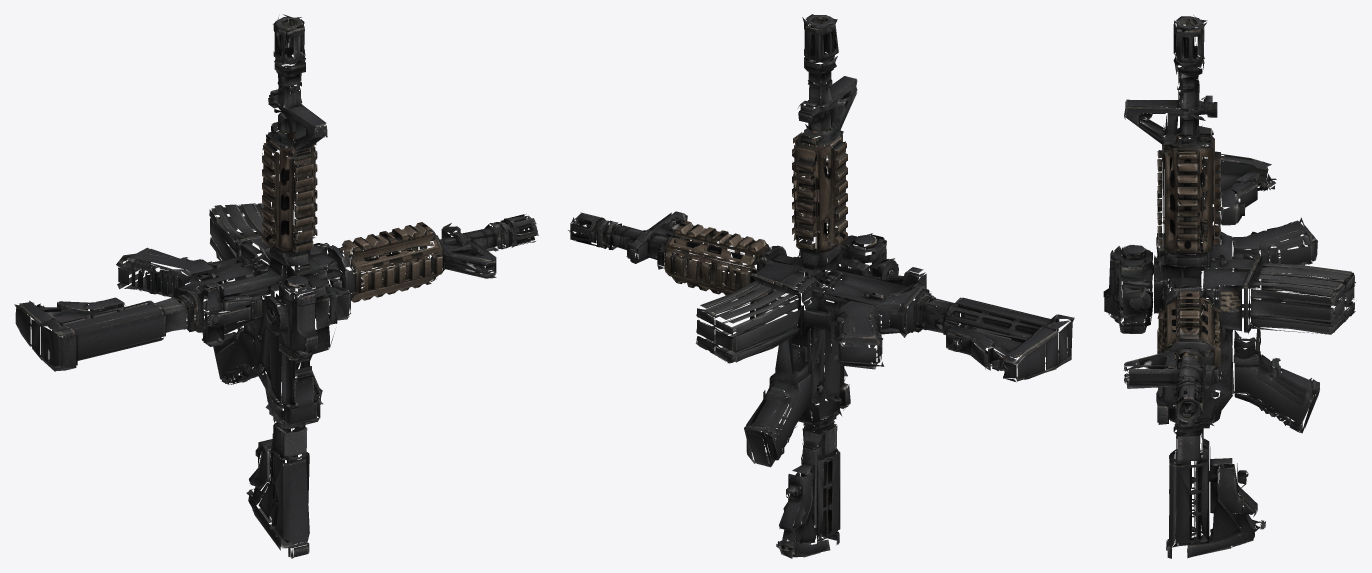
3 views of the same model, side by side, from view 1: azimuth 30°, elevation 25°; view 2: azimuth 150°, elevation 25°; view 3: azimuth 270°, elevation 25° (orthographic).
Visible parts, largest first — view 1: tripo_node_86e72d56-6524-4caf-804e-44431e80862d; view 2: tripo_node_86e72d56-6524-4caf-804e-44431e80862d; view 3: tripo_node_86e72d56-6524-4caf-804e-44431e80862d.
Boxes of the visible parts, x1,y1,x2,y2 form: tripo_node_86e72d56-6524-4caf-804e-44431e80862d: (14,14,538,558); tripo_node_86e72d56-6524-4caf-804e-44431e80862d: (568,14,1074,558); tripo_node_86e72d56-6524-4caf-804e-44431e80862d: (1103,15,1356,558).
Bounding box in the file's own units: 0.7802 × 0.8037 × 0.3457.
Materials: 1 (1 with a texture image).
